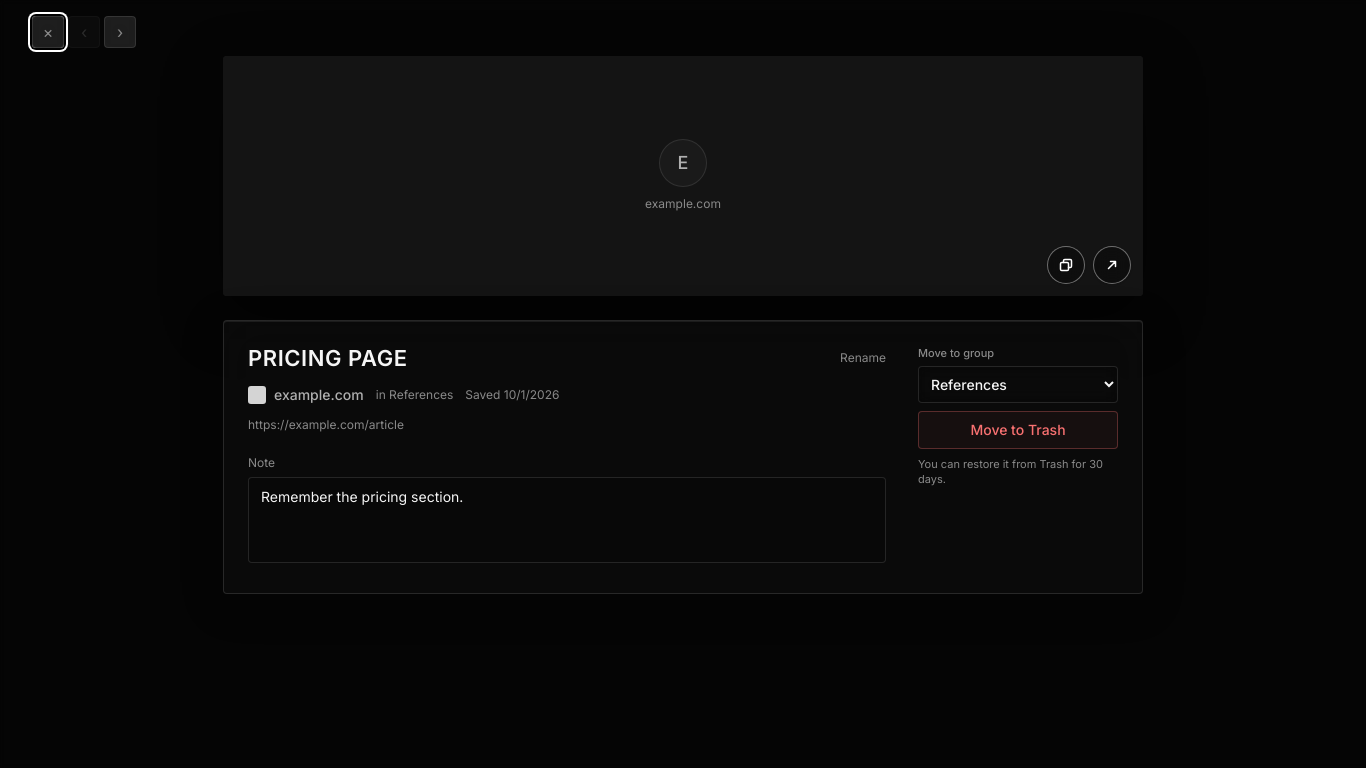
Test: leaving a link keeps the note › stays on the link when the note cannot be saved
Replace the text in the text box labelled "Note" with "Do not lose this" at (567, 520), box [248, 477, 886, 563]
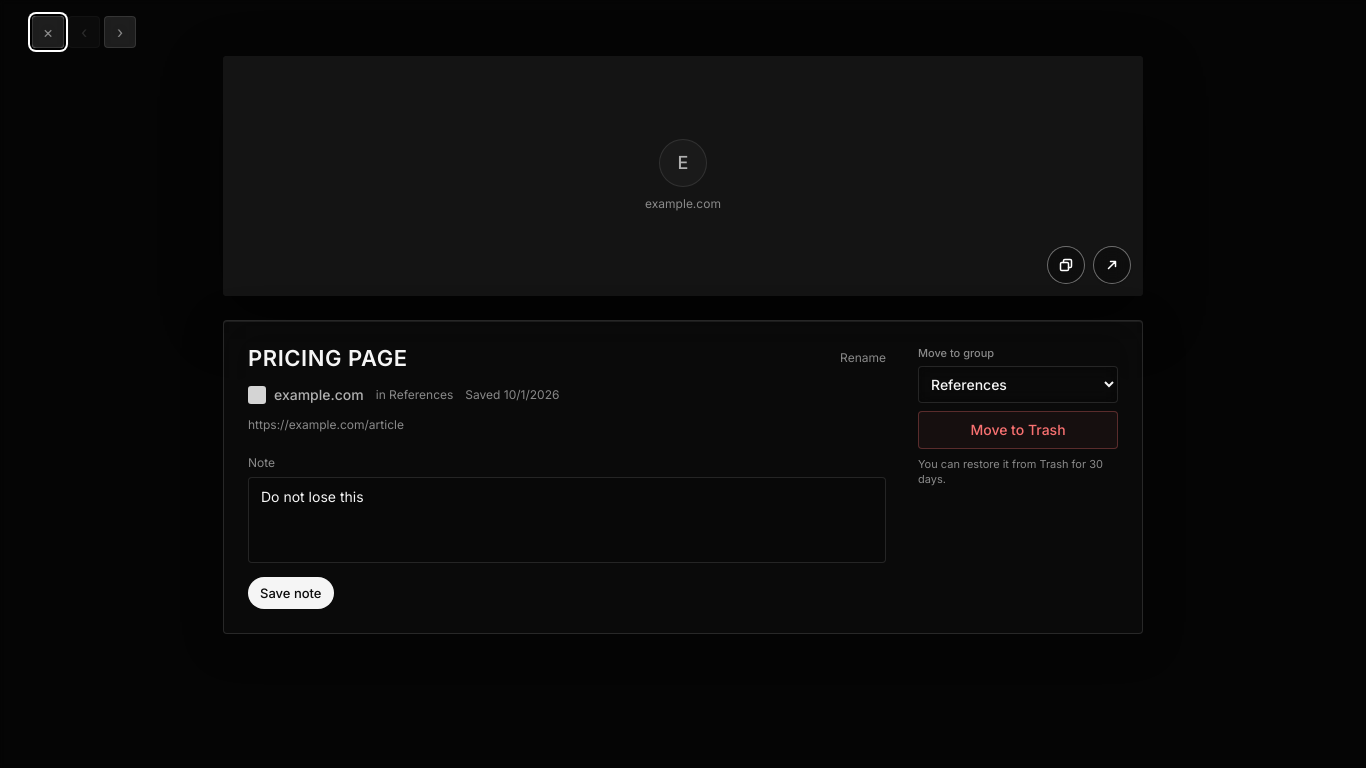
Click the button named "Close" at (48, 32), box [32, 16, 64, 48]
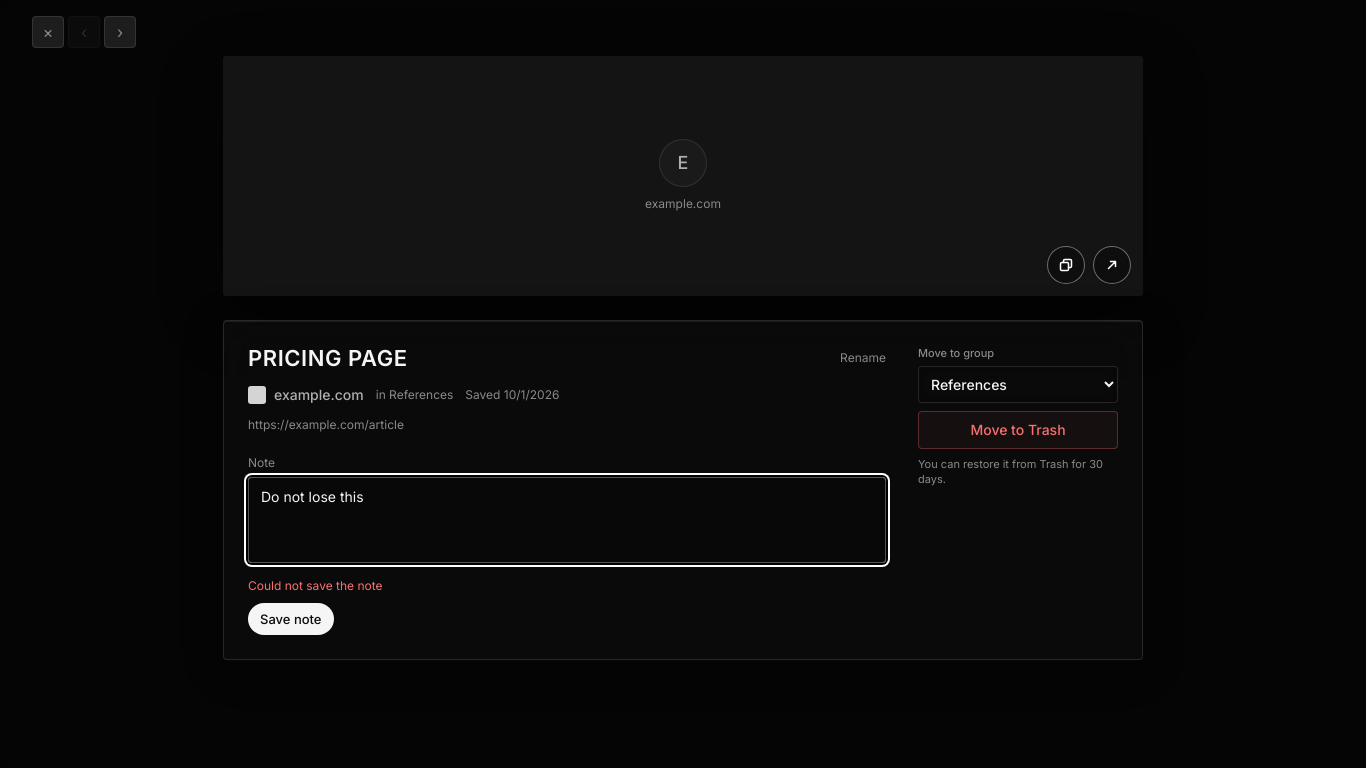
Result: the message reads "Could not save the note" at [248, 578, 382, 593]
